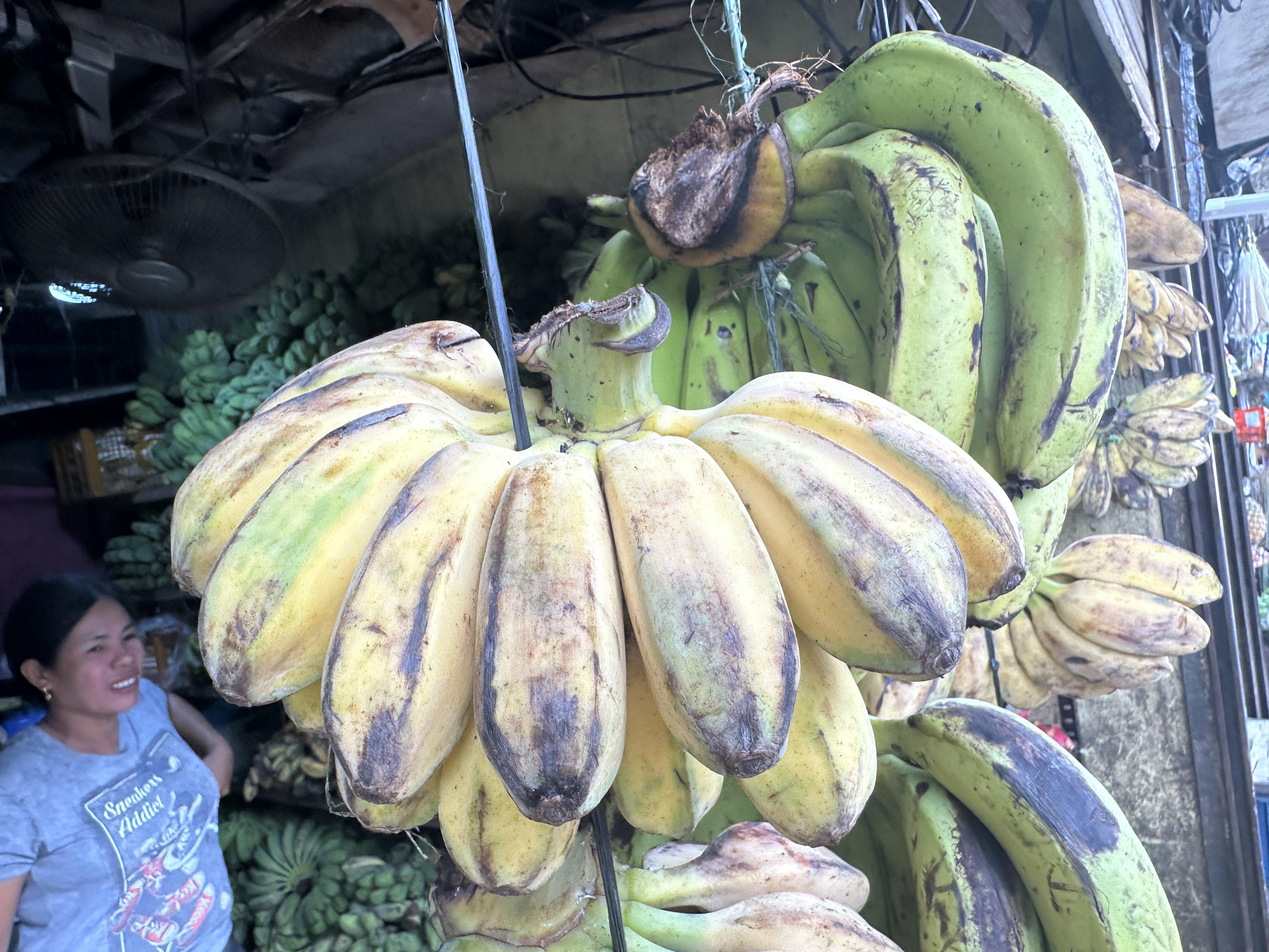ripe: (859, 534, 1221, 718)
underripe: (171, 321, 1024, 892), (1071, 373, 1234, 516), (1117, 269, 1211, 377)
